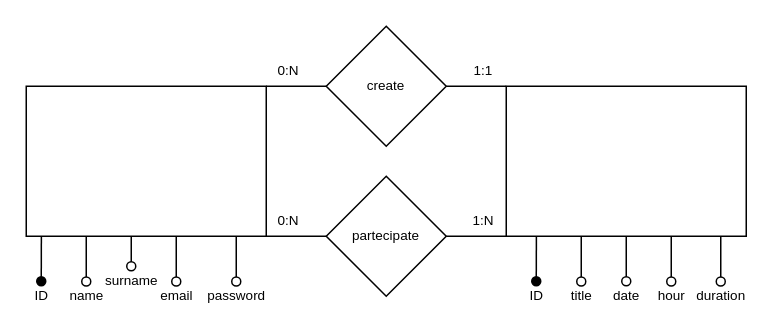
Some shapes in this 773 by 332 pixel diagram are drawn without their labels. Each missing label, with the centre of its shape:
Meeting: the point at 625,160
Person: the point at 145,160
